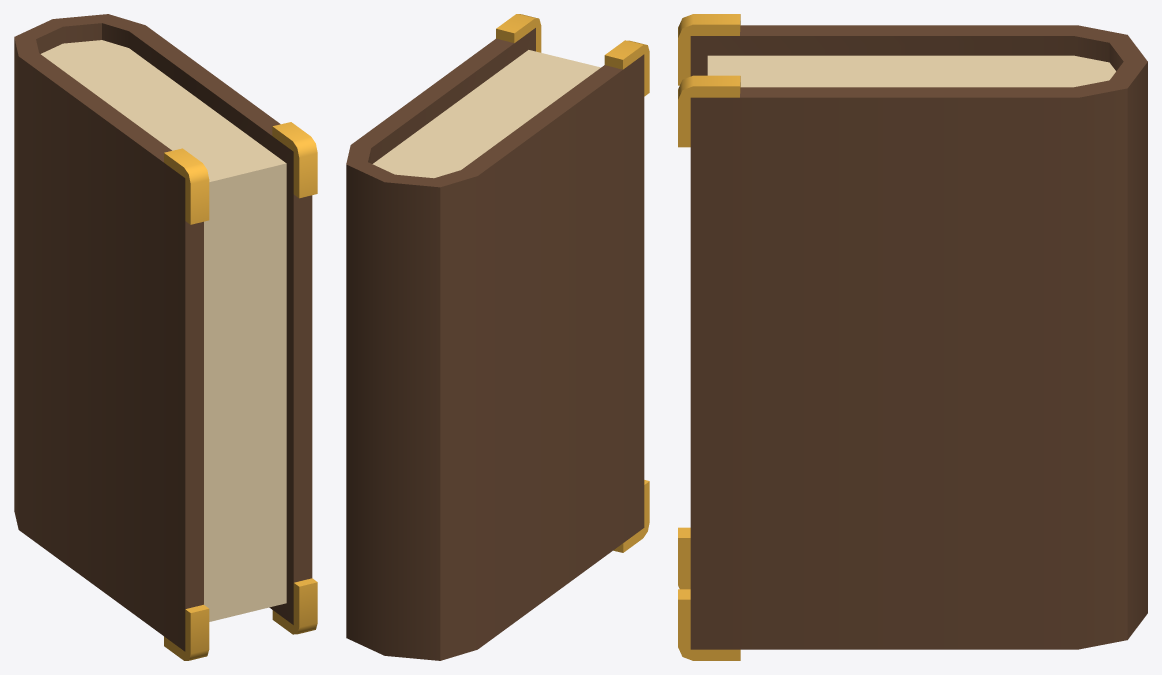
The model's file is Book_3.fbx.
3 views of the same model, side by side, from view 1: azimuth 30°, elevation 25°; view 2: azimuth 150°, elevation 25°; view 3: azimuth 270°, elevation 25° (orthographic). The views are drawn at different scales.
Visible parts, largest first — view 1: Book_3; view 2: Book_3; view 3: Book_3.
Part boxes in pixels (box(x1,y1,x2,y2)): Book_3: box(14, 14, 317, 660); Book_3: box(346, 14, 649, 660); Book_3: box(678, 14, 1147, 660).
Bounding box in the file's own units: 0.0712 × 0.2642 × 0.1957.
